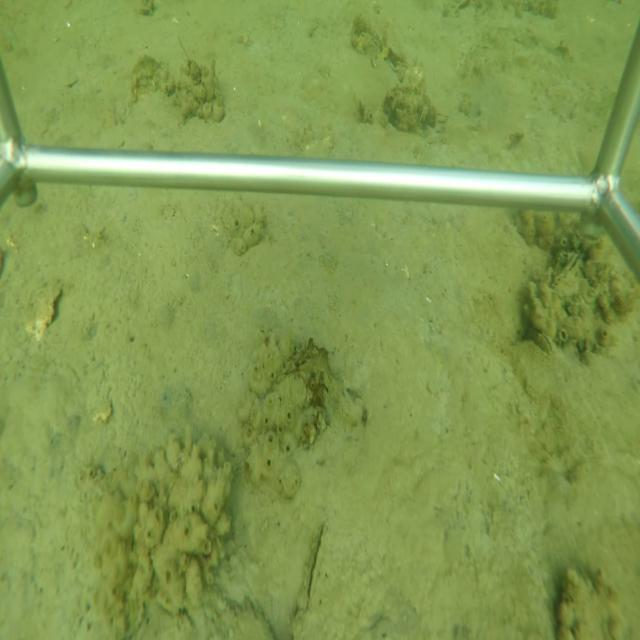Oyster-Closed: (291, 516, 330, 640), (547, 252, 585, 292)
